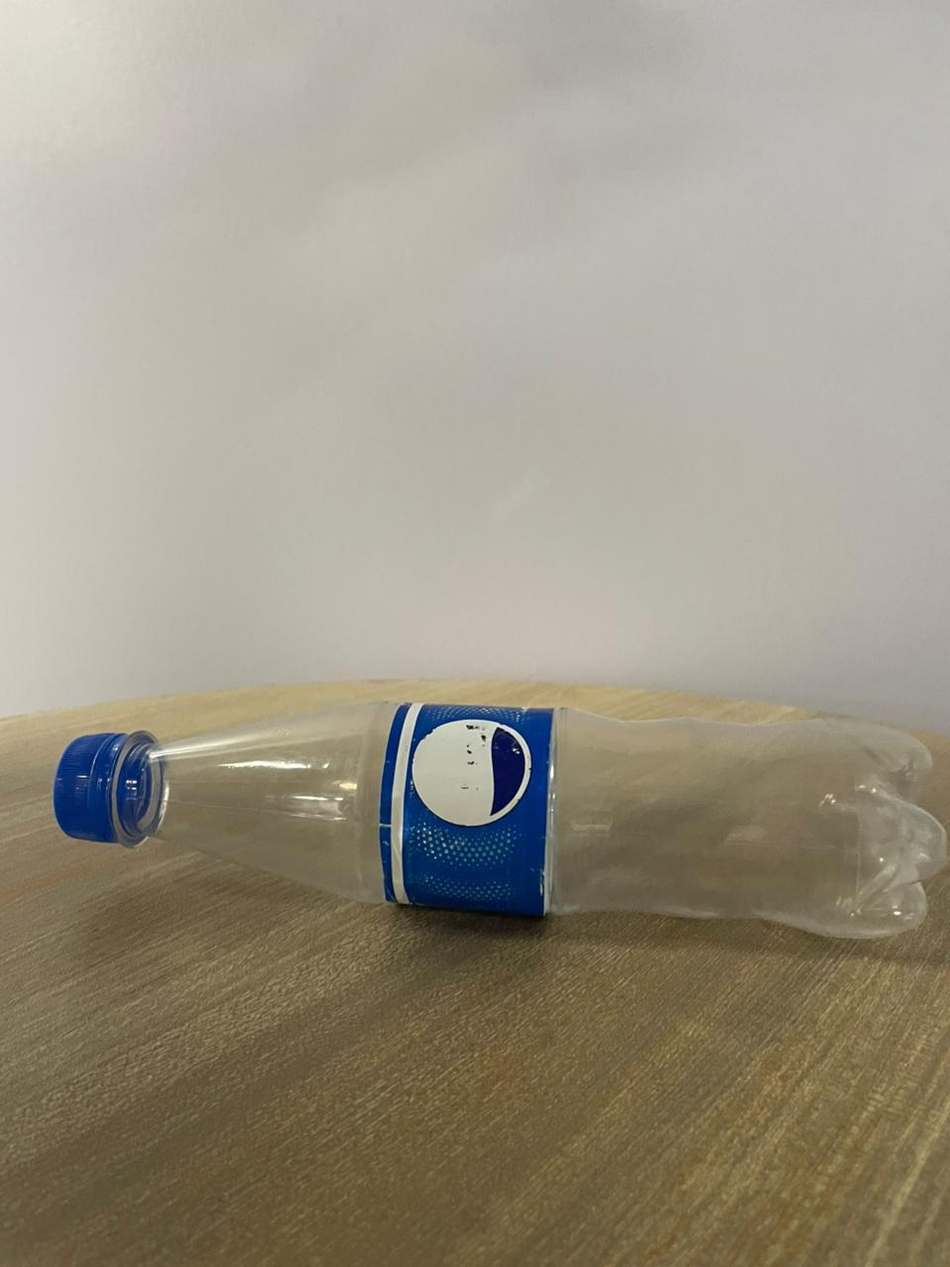Pepsi Bottle: (49, 671, 948, 970), (42, 669, 936, 962)
